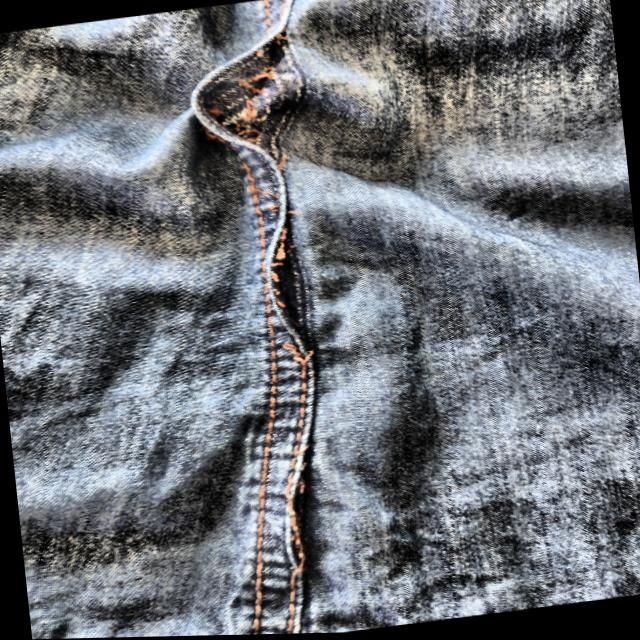seam: (167, 10, 337, 180), (243, 201, 332, 360), (255, 444, 341, 604)
